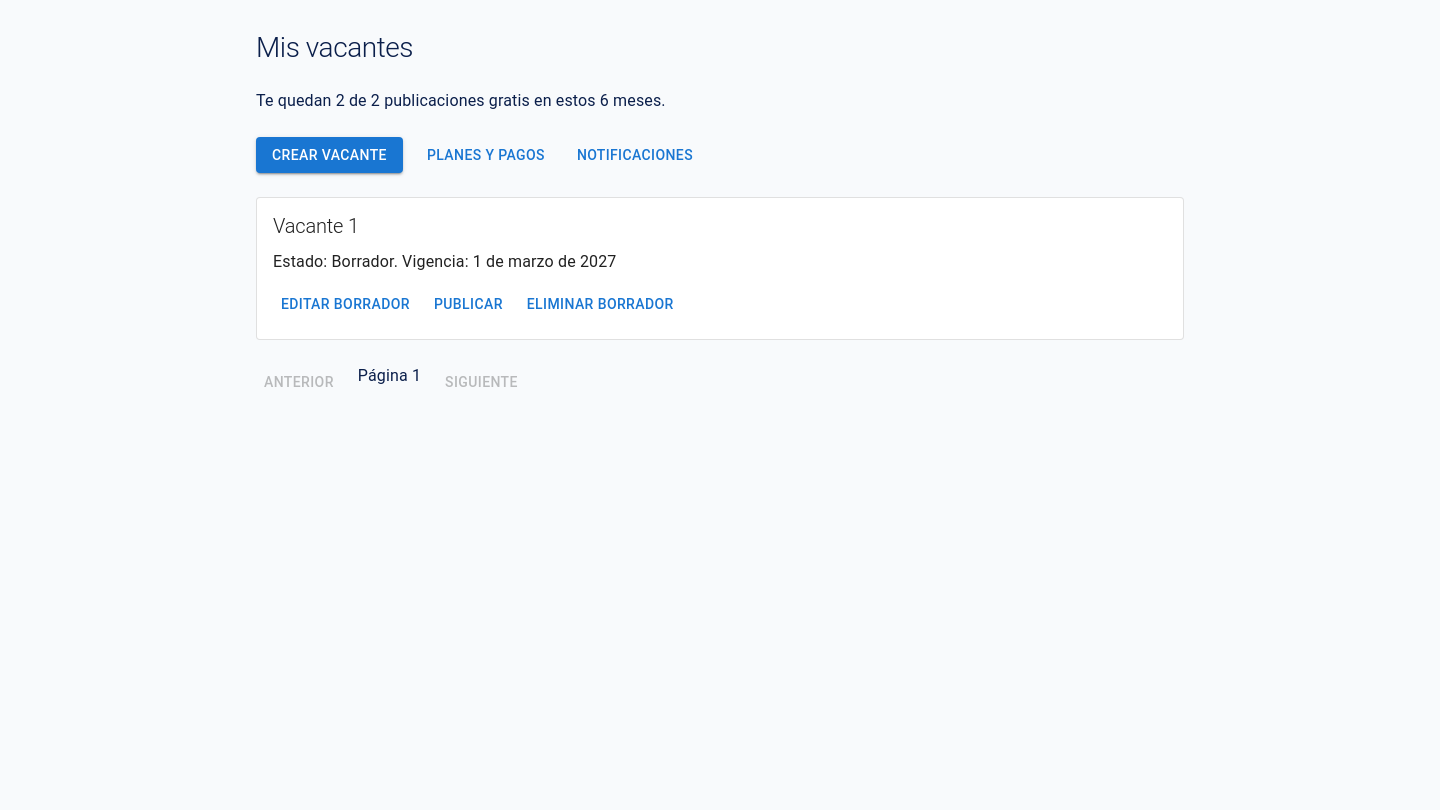
Scenario: MisVacantes › el mensaje de lista vacía aparece solo cuando no queda ninguna vacante
Click the button "Eliminar borrador" at [600, 304], box [519,286,682,323]
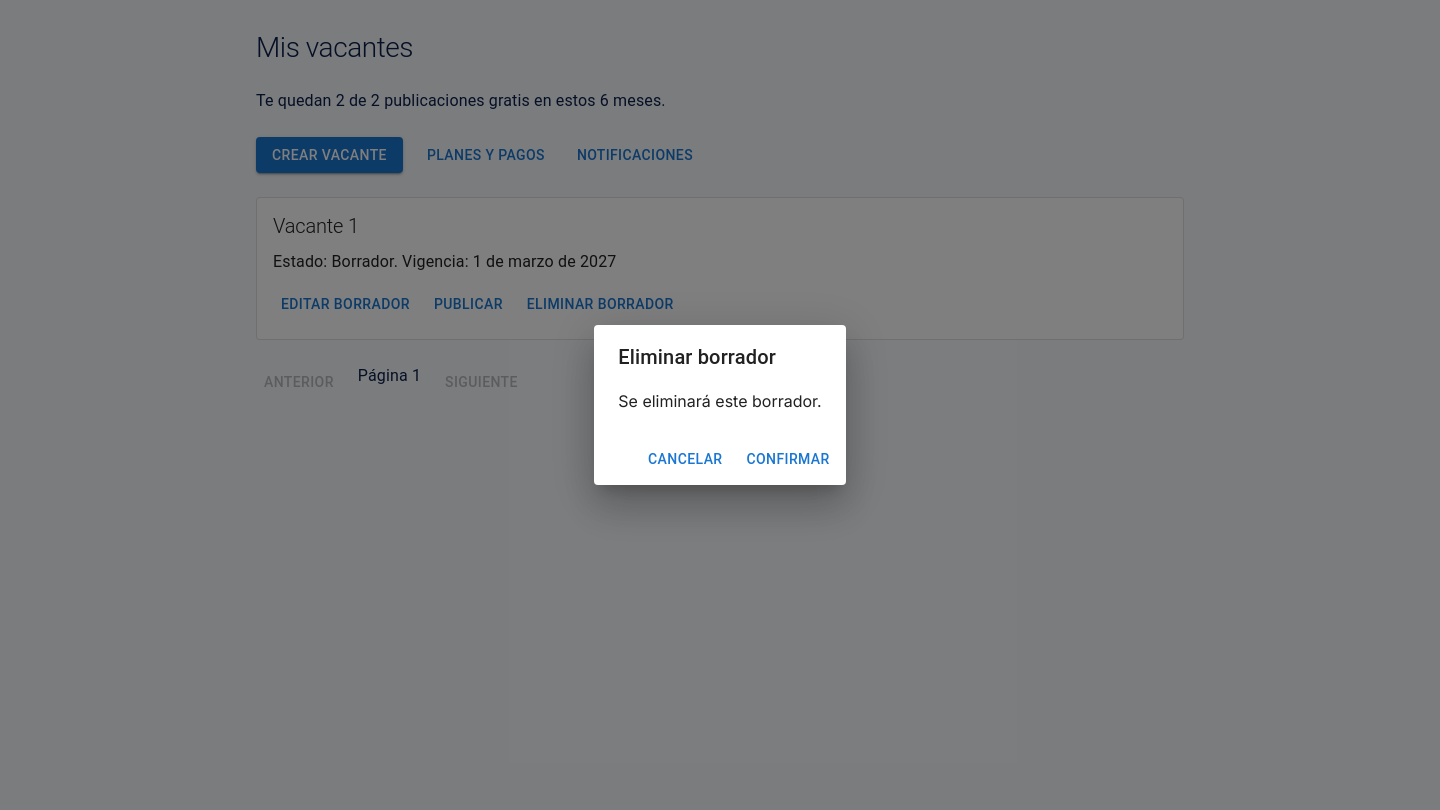
Click the button "Confirmar" at [788, 459], box [738,441,838,477]
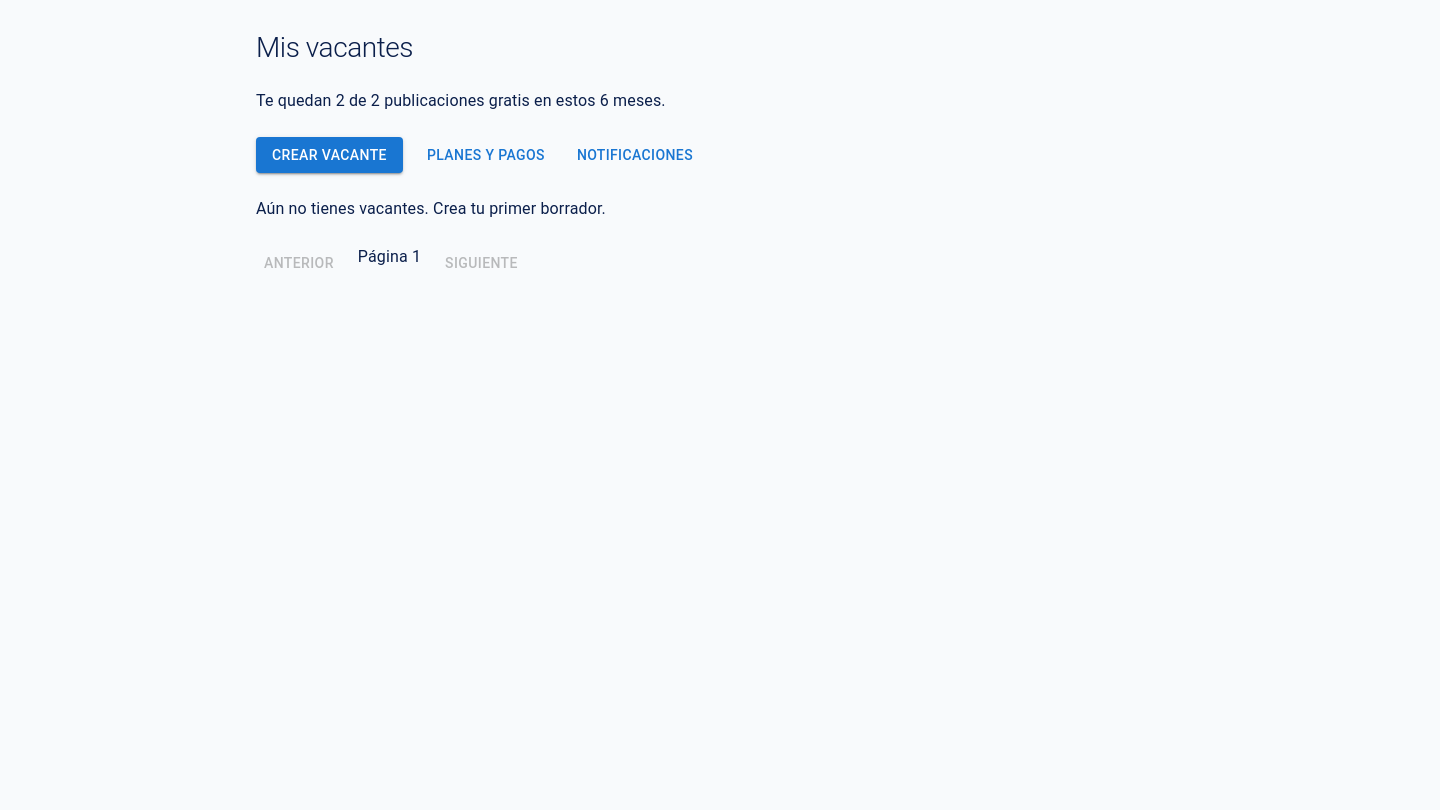
Check: the dialog is gone
Check: the text "Aún no tienes vacantes. Crea tu primer borrador." is shown, box [256,199,606,218]
